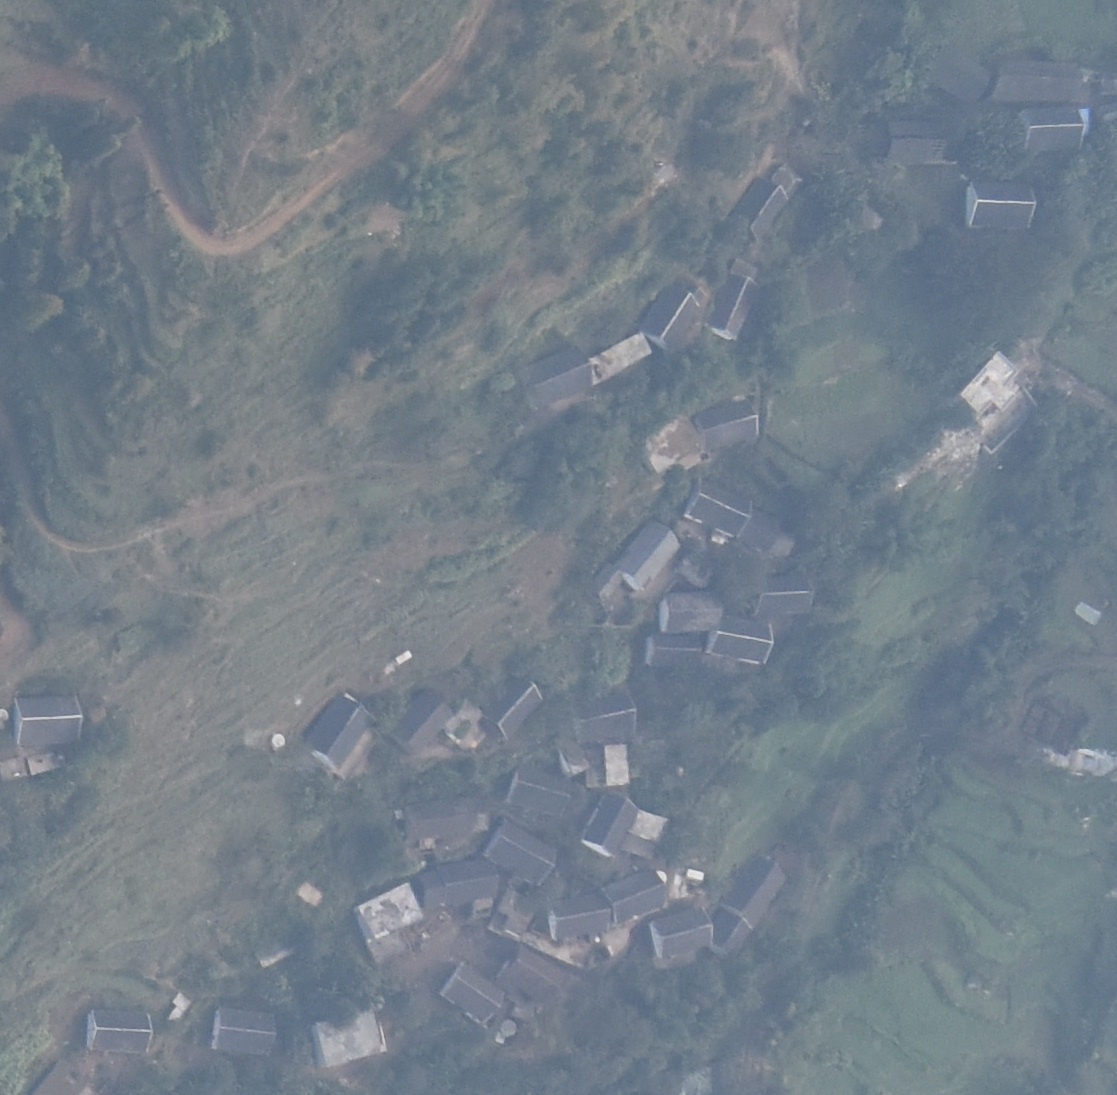building: (714, 851, 785, 955), (497, 945, 586, 1011), (305, 691, 370, 776), (482, 818, 556, 885), (387, 686, 453, 757), (616, 518, 681, 589), (311, 1009, 388, 1067), (520, 346, 593, 404), (990, 58, 1082, 104), (727, 175, 790, 242), (960, 346, 1019, 417), (685, 475, 753, 536), (443, 958, 506, 1022), (642, 288, 702, 352), (418, 859, 499, 905), (600, 868, 670, 921), (706, 274, 759, 344), (569, 690, 640, 742), (485, 677, 547, 736), (707, 615, 776, 668), (964, 179, 1037, 229), (357, 884, 422, 939), (582, 792, 637, 856), (506, 764, 572, 817), (14, 694, 82, 745), (692, 401, 759, 451), (590, 332, 654, 384), (881, 119, 953, 165), (649, 905, 713, 955), (546, 891, 608, 942), (212, 1008, 279, 1055), (400, 797, 474, 839), (86, 1008, 153, 1054), (1022, 105, 1086, 153), (658, 589, 722, 632), (752, 575, 815, 616), (446, 698, 492, 752), (584, 742, 631, 787), (647, 630, 705, 666), (632, 808, 670, 843)
well: (270, 734, 284, 747)
